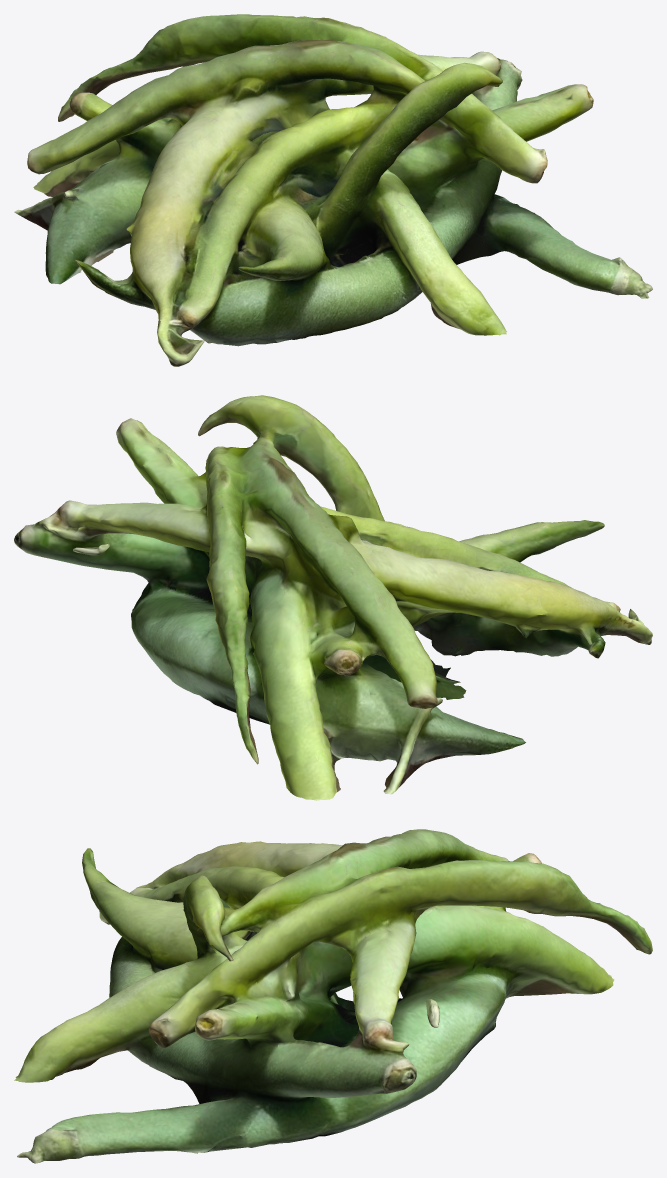
File: kedelai.glb
3 renders of one model, top to bottom at view 1: azimuth 30°, elevation 25°; view 2: azimuth 150°, elevation 25°; view 3: azimuth 270°, elevation 25°, orthographic. The views are drawn at different scales.
Visible parts, largest first — view 1: Object_4; view 2: Object_4; view 3: Object_4.
Boxes of the visible parts, box(x1,y1,x2,y2) form: Object_4: box(14, 14, 652, 366); Object_4: box(14, 395, 652, 800); Object_4: box(14, 829, 652, 1163).
Bounding box in the file's own units: 1.96 × 0.7348 × 2.
1 material, 1 textured.
